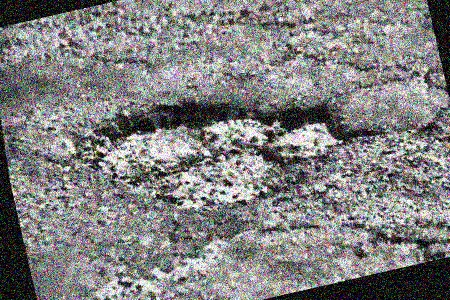pothole: (58, 51, 373, 255)
